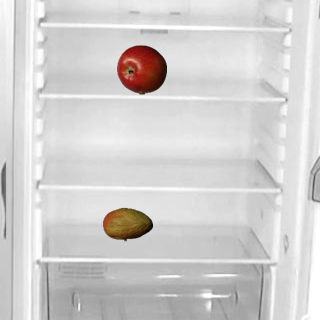Apple Braeburn: (116, 44, 166, 94)
Papaya: (102, 199, 152, 249)
